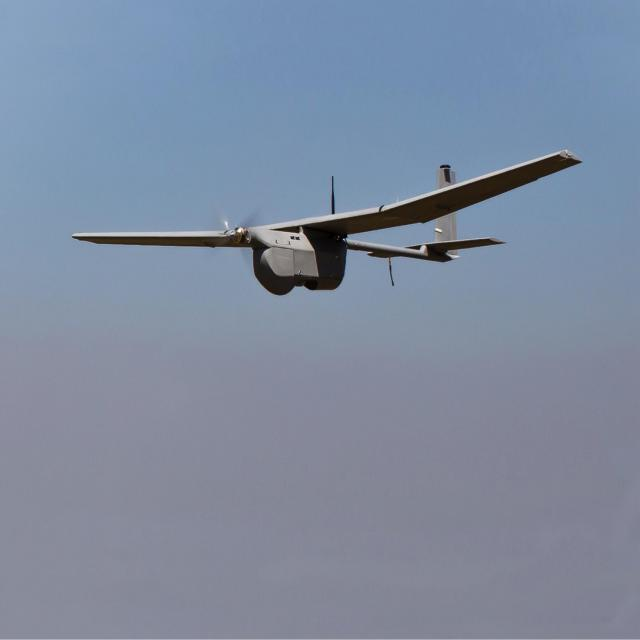iha: (90, 124, 556, 321)
